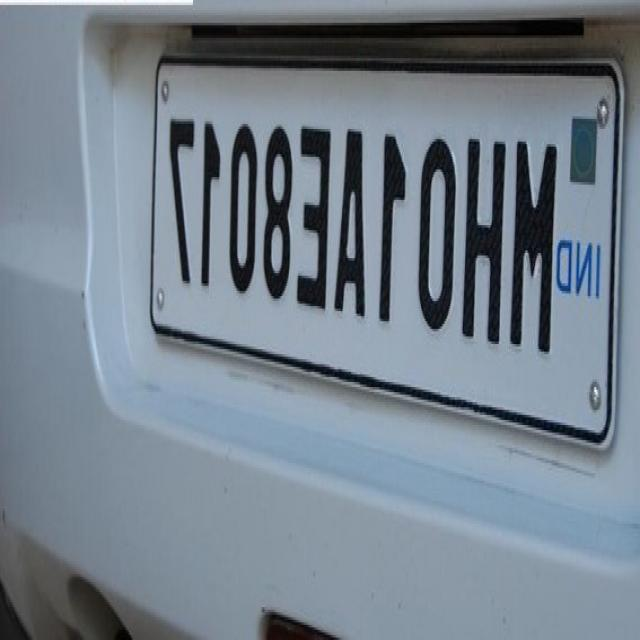license_plate: (145, 46, 630, 463)
